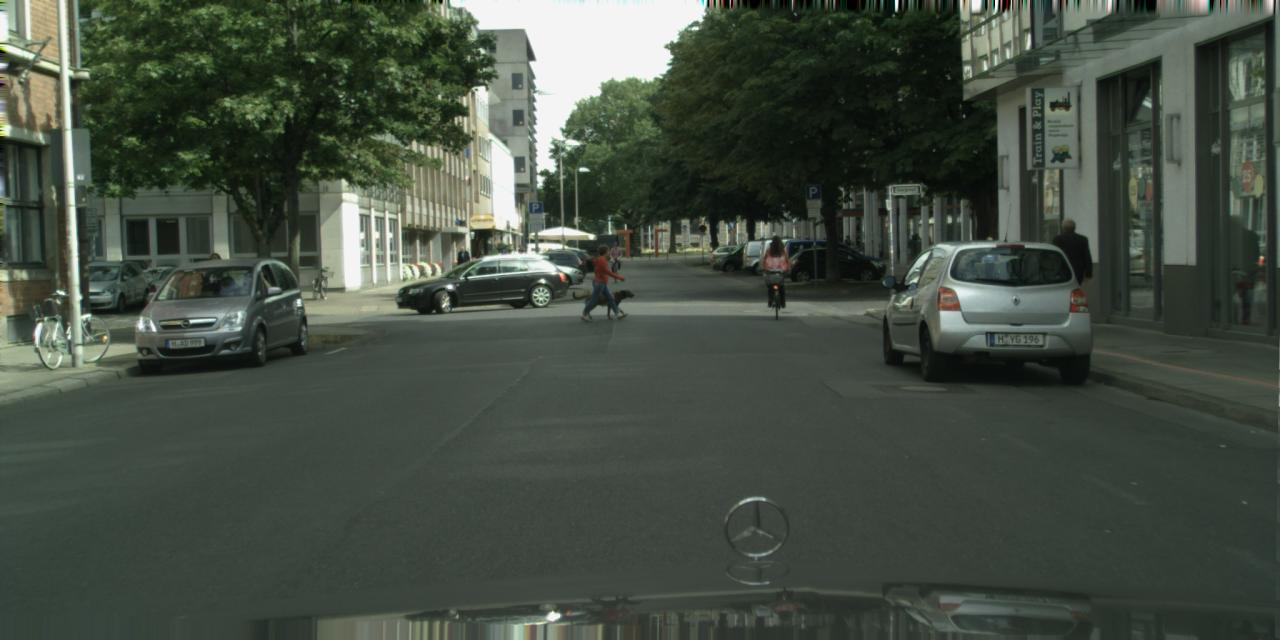ped: (1045, 218, 1089, 326), (588, 244, 618, 320), (761, 234, 791, 306), (204, 252, 229, 312), (608, 242, 621, 274), (456, 245, 468, 279), (843, 234, 852, 258), (517, 244, 524, 264)
